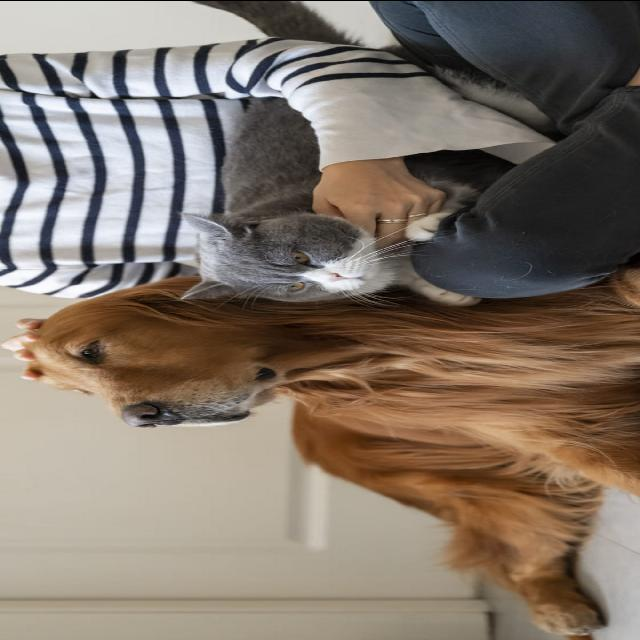cat: (175, 0, 491, 305)
dog: (20, 273, 640, 634)
